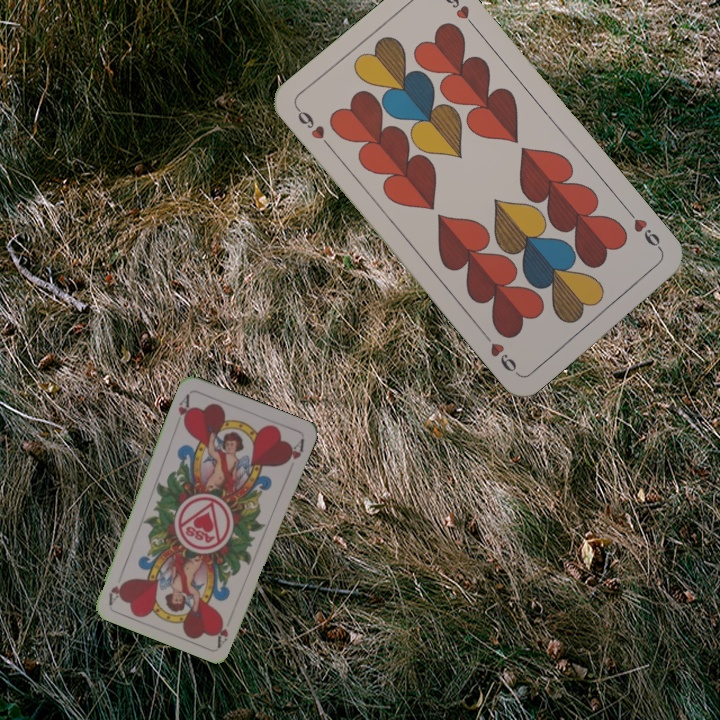H9: (292, 103, 335, 152), (623, 206, 666, 255)
HA: (174, 390, 194, 429), (213, 615, 231, 649)
